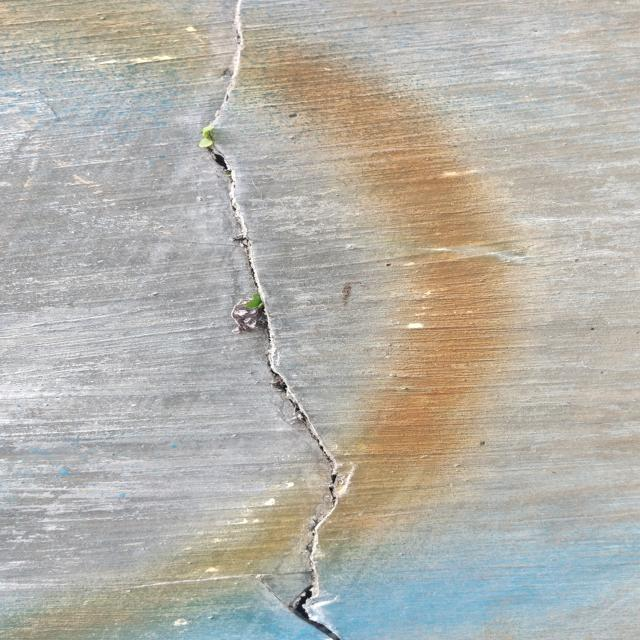Crack: (185, 0, 367, 639)
